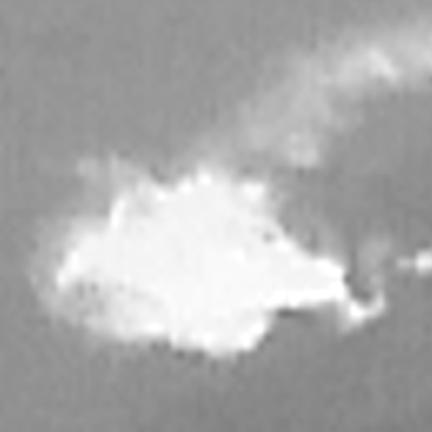flukeprints: (57, 170, 344, 353)
